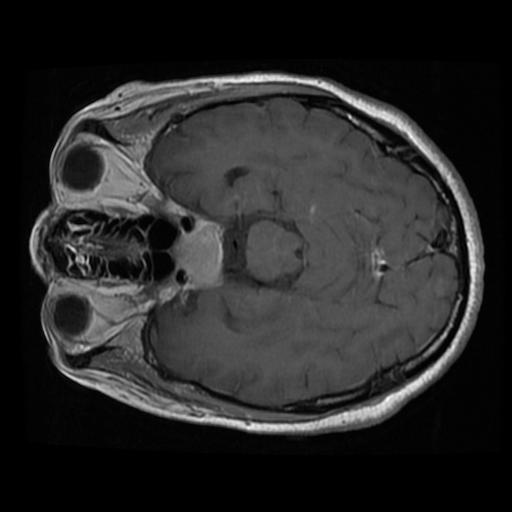pituitary tumour: (173, 222, 224, 290)
